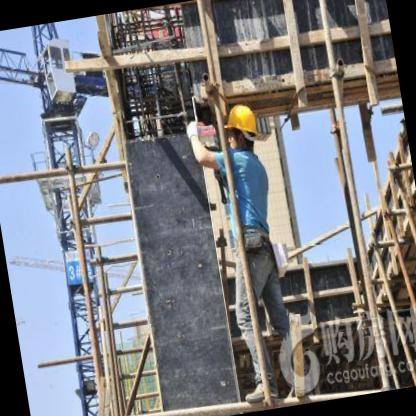helmet: (223, 99, 264, 156)
